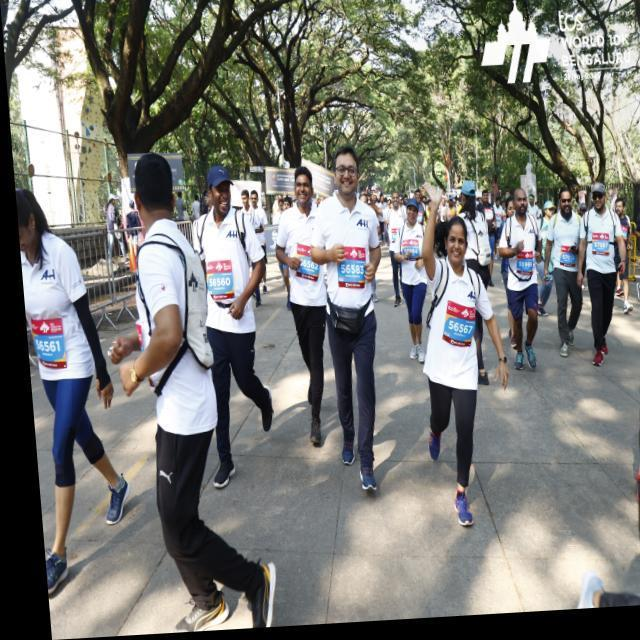dorsal: (24, 316, 66, 369), (199, 256, 234, 314), (442, 302, 474, 354), (330, 246, 364, 294), (291, 244, 319, 287)
